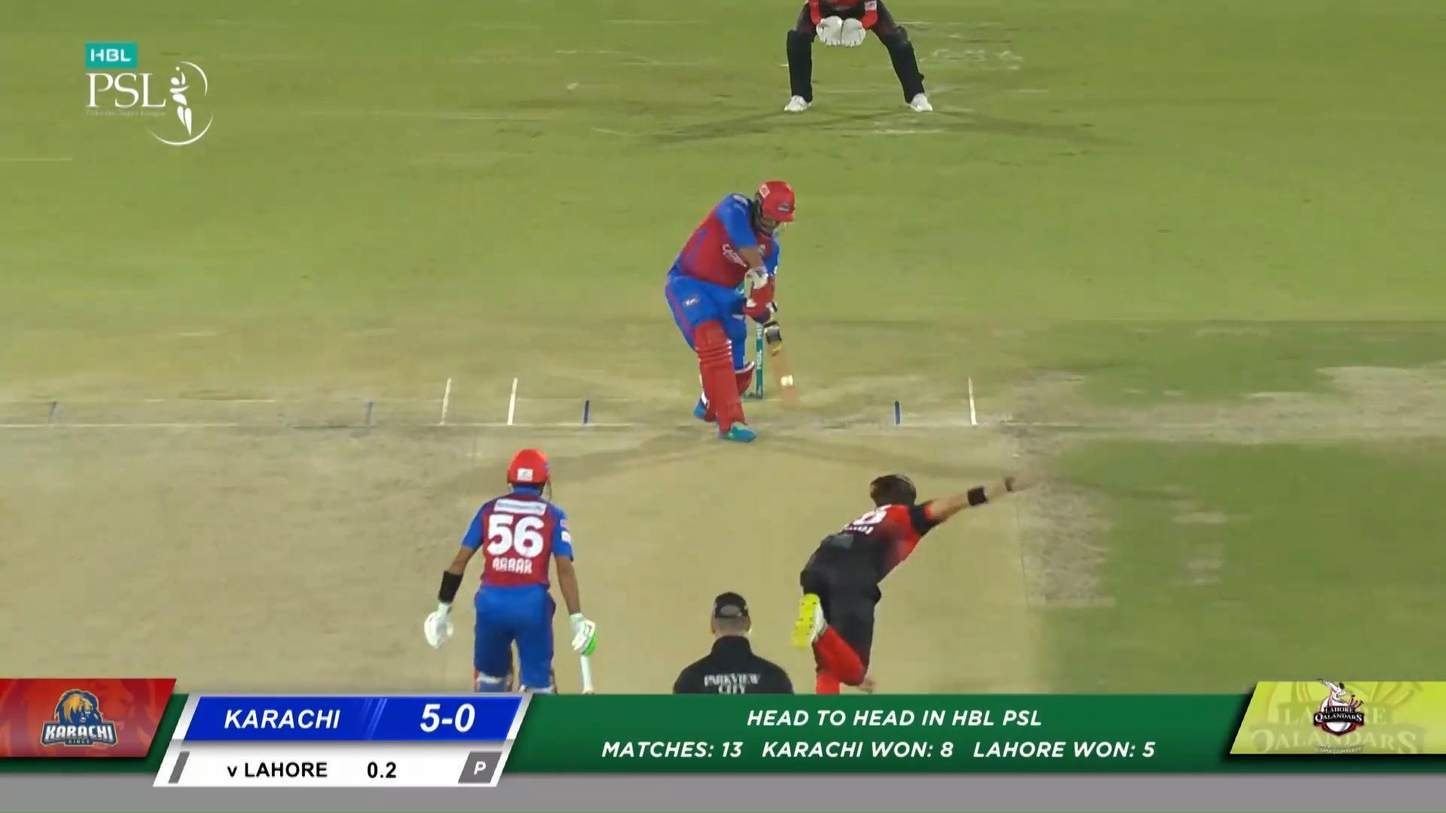BM 1: (665, 180, 796, 443)
BO: (788, 470, 1053, 766)
